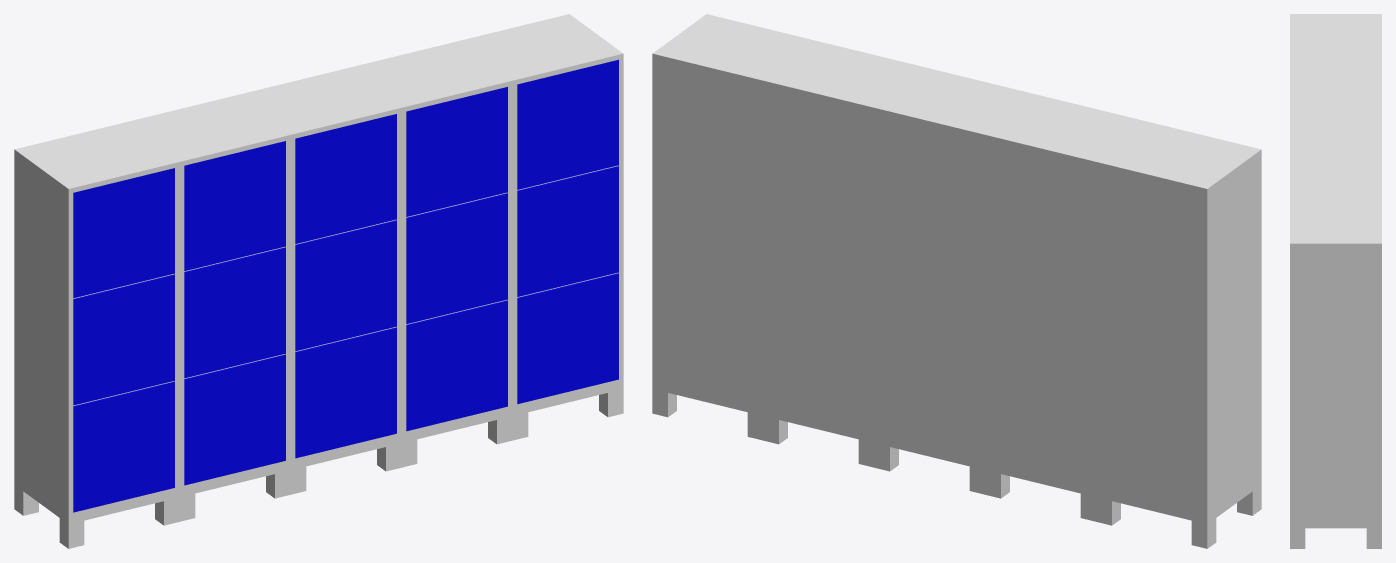
Rendered from casiers.bloc.5.glb.
3 views of the same model, side by side, from view 1: azimuth 30°, elevation 25°; view 2: azimuth 150°, elevation 25°; view 3: azimuth 270°, elevation 25° (orthographic). The views are drawn at different scales.
Visible parts, largest first — view 1: imagetostl_mesh7, imagetostl_mesh18, imagetostl_mesh67, imagetostl_mesh128, imagetostl_mesh17, imagetostl_mesh55, imagetostl_mesh59, imagetostl_mesh69, imagetostl_mesh112, imagetostl_mesh126, imagetostl_mesh19, imagetostl_mesh51 (+14 smaller); view 2: imagetostl_mesh83, imagetostl_mesh46, imagetostl_mesh143, imagetostl_mesh4, imagetostl_mesh96, imagetostl_mesh7, imagetostl_mesh89, imagetostl_mesh16, imagetostl_mesh110, imagetostl_mesh44, imagetostl_mesh148; view 3: imagetostl_mesh135, imagetostl_mesh110, imagetostl_mesh148, imagetostl_mesh16, imagetostl_mesh44, imagetostl_mesh89.
Part boxes in pixels (<box>): imagetostl_mesh7: <box>14,149,68,548</box>; imagetostl_mesh18: <box>73,275,174,405</box>; imagetostl_mesh67: <box>295,328,396,458</box>; imagetostl_mesh128: <box>517,59,618,189</box>; imagetostl_mesh17: <box>73,168,174,298</box>; imagetostl_mesh55: <box>184,141,285,270</box>; imagetostl_mesh59: <box>184,355,285,485</box>; imagetostl_mesh69: <box>295,221,396,351</box>; imagetostl_mesh112: <box>406,194,507,323</box>; imagetostl_mesh126: <box>517,274,618,404</box>; imagetostl_mesh19: <box>73,382,174,512</box>; imagetostl_mesh51: <box>184,248,285,378</box>; imagetostl_mesh83: <box>874,108,985,494</box>; imagetostl_mesh46: <box>985,135,1096,521</box>; imagetostl_mesh143: <box>652,53,763,440</box>; imagetostl_mesh4: <box>1096,162,1207,548</box>; imagetostl_mesh96: <box>763,80,874,467</box>; imagetostl_mesh7: <box>1207,149,1261,548</box>; imagetostl_mesh89: <box>875,68,1039,134</box>; imagetostl_mesh16: <box>1097,122,1260,188</box>; imagetostl_mesh110: <box>764,41,928,107</box>; imagetostl_mesh44: <box>986,95,1149,161</box>; imagetostl_mesh148: <box>653,14,816,80</box>; imagetostl_mesh135: <box>1290,243,1381,548</box>; imagetostl_mesh110: <box>1290,151,1381,197</box>; imagetostl_mesh148: <box>1290,197,1381,243</box>; imagetostl_mesh16: <box>1290,14,1381,59</box>; imagetostl_mesh44: <box>1290,60,1381,105</box>; imagetostl_mesh89: <box>1290,106,1381,151</box>.
Bounding box in the file's own units: 2.8 × 1.73 × 0.4724.
